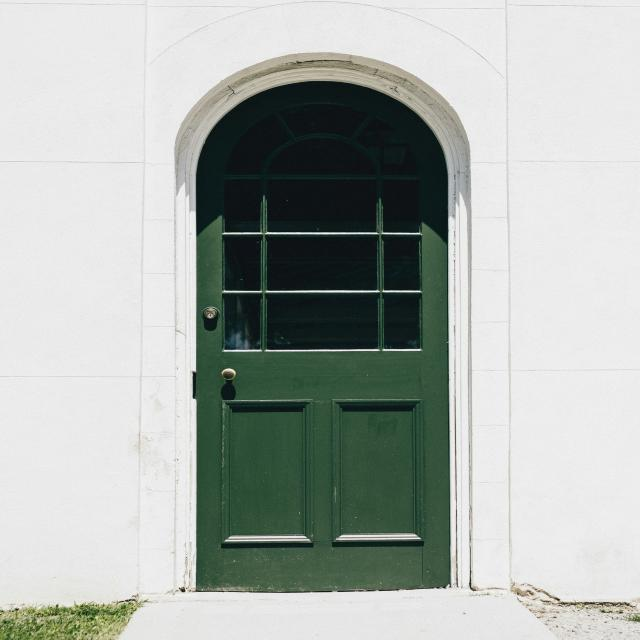door-knob: (222, 369, 236, 380)
